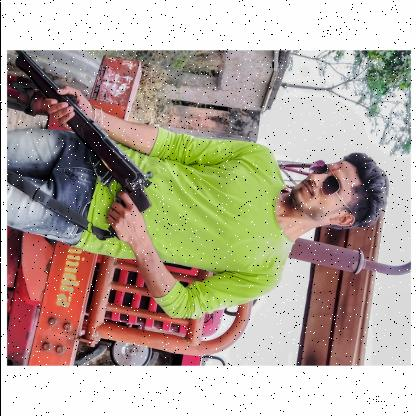rifle: (13, 50, 154, 242)
